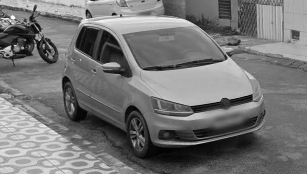car: (62, 17, 270, 154)
